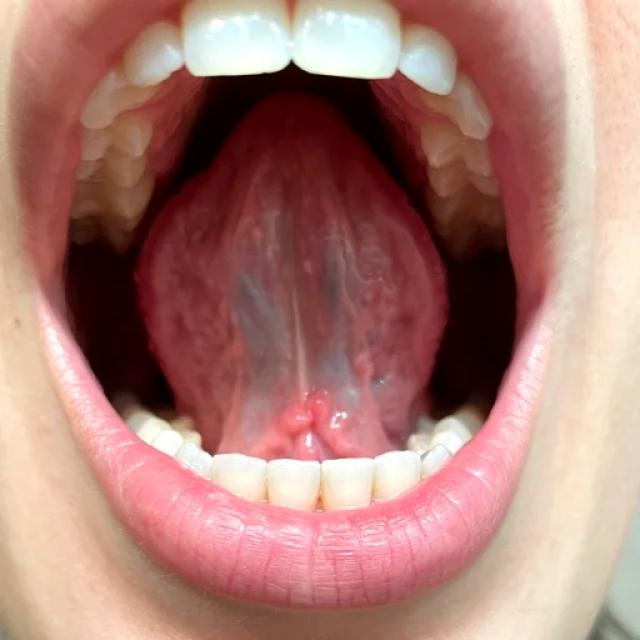processing_area: (141, 103, 448, 459)
